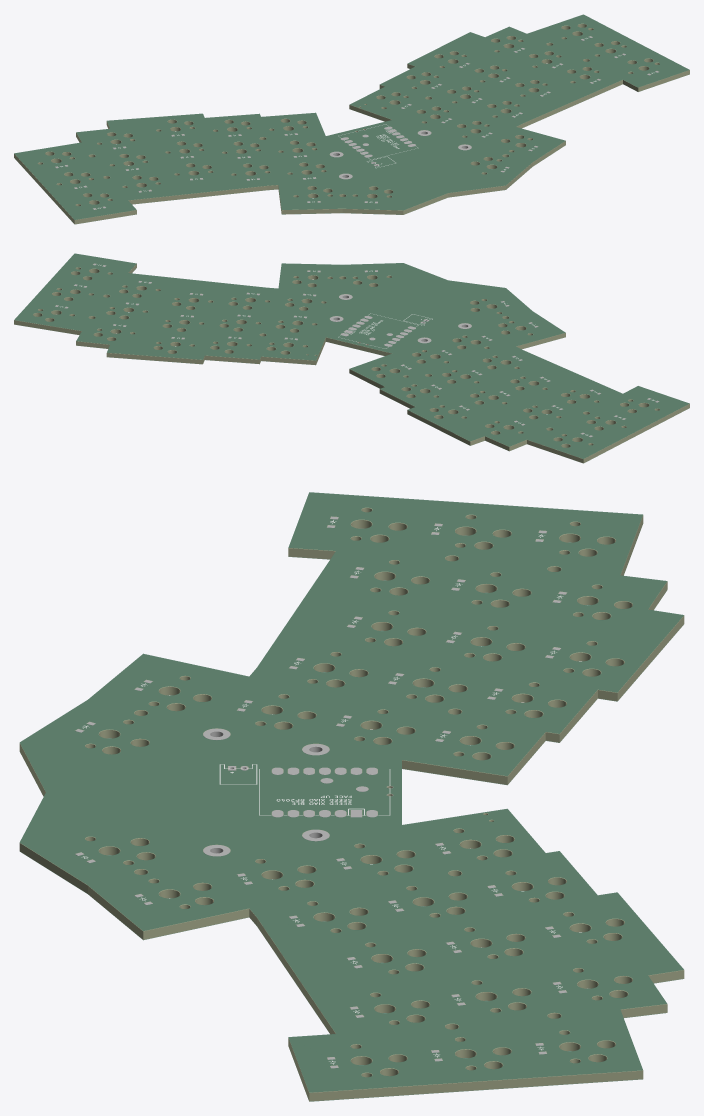
File: board.glb
The picture shows the model from 3 angles, top to bottom: view 1: azimuth 30°, elevation 25°; view 2: azimuth 150°, elevation 25°; view 3: azimuth 270°, elevation 25°; orthographic projection. The views are drawn at different scales.
Parts seen in each view (by area): view 1: board_PCB, board_soldermask, board_pad, board_silkscreen; view 2: board_PCB, board_soldermask, board_pad, board_silkscreen; view 3: board_PCB, board_soldermask (×2), board_pad, board_silkscreen.
Boxes of the visible parts, x1=… form: board_PCB: x1=14, y1=15, x2=689, y2=224; board_soldermask: x1=14, y1=14, x2=689, y2=219; board_pad: x1=55, y1=36, x2=658, y2=209; board_silkscreen: x1=60, y1=38, x2=654, y2=208; board_PCB: x1=14, y1=254, x2=689, y2=463; board_soldermask: x1=14, y1=253, x2=689, y2=458; board_pad: x1=55, y1=263, x2=658, y2=437; board_silkscreen: x1=60, y1=264, x2=654, y2=435; board_PCB: x1=19, y1=493, x2=684, y2=1101; board_soldermask (×2): x1=19, y1=492, x2=683, y2=1101; board_pad: x1=75, y1=516, x2=566, y2=1068; board_silkscreen: x1=81, y1=520, x2=563, y2=1064.
Bounding box in the file's own units: 0.229 × 0.00166 × 0.1071.
